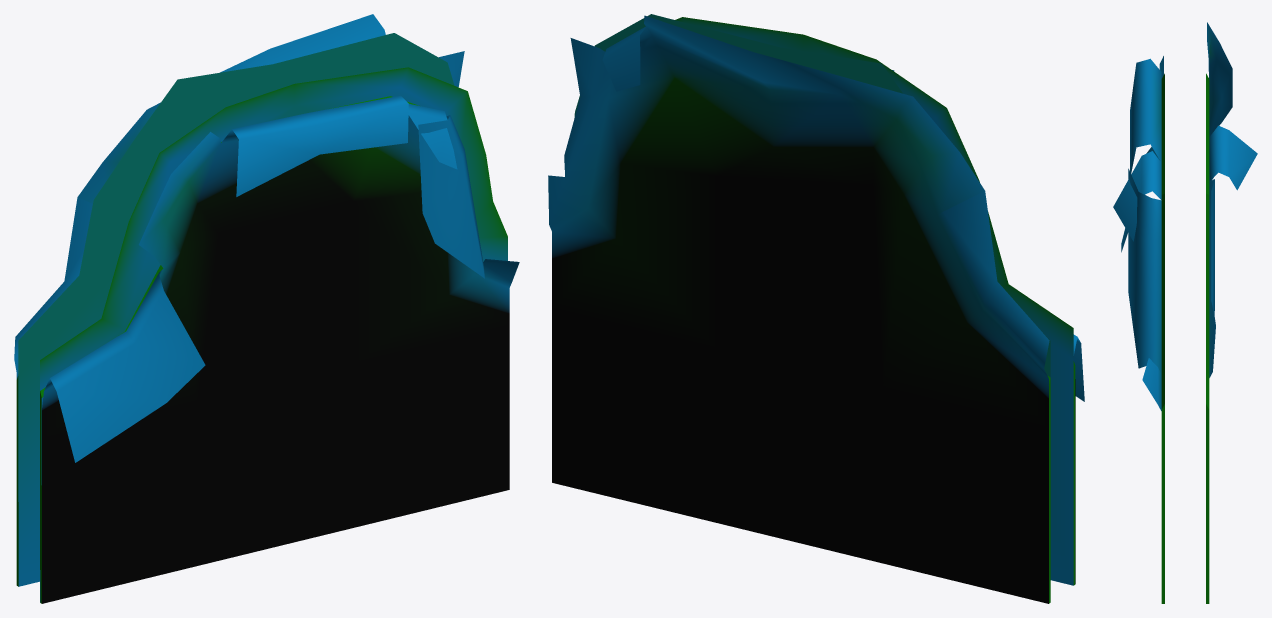
Rendered from DBK_Drywall_Tile_D.fbx.
3 renders of one model, left to right at view 1: azimuth 30°, elevation 25°; view 2: azimuth 150°, elevation 25°; view 3: azimuth 270°, elevation 25°, orthographic. The views are drawn at different scales.
Visible parts, largest first — view 1: DBK_Drywall_Tile_D; view 2: DBK_Drywall_Tile_D; view 3: DBK_Drywall_Tile_D.
Part boxes in pixels (box(x1,y1,x2,y2)): DBK_Drywall_Tile_D: box(14, 14, 519, 603); DBK_Drywall_Tile_D: box(548, 14, 1084, 603); DBK_Drywall_Tile_D: box(1113, 22, 1257, 603).
Size of what is drawn, in the model's own units: 301 by 290 by 84.39.
